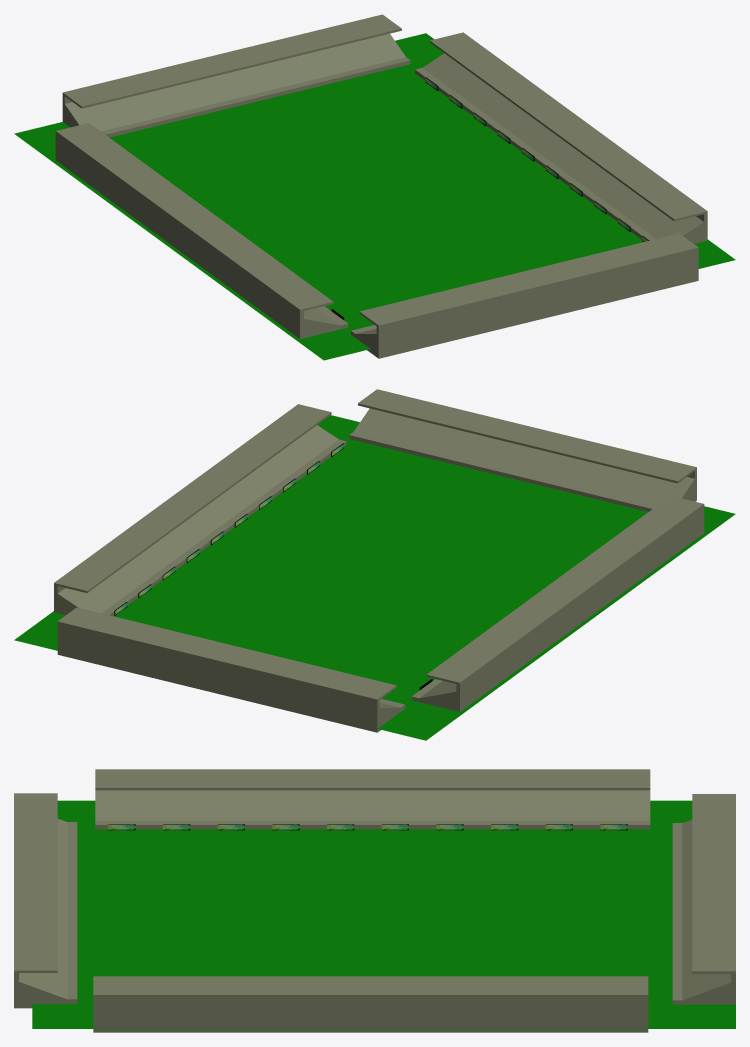
Rendered from stadion.dae.
3 renders of one model, top to bottom at view 1: azimuth 30°, elevation 25°; view 2: azimuth 150°, elevation 25°; view 3: azimuth 270°, elevation 25°, orthographic. The views are drawn at different scales.
Parts seen in each view (by area): view 1: Plane, Cube_003, Cube_004, Cube_005, Cube_002, Cube_000; view 2: Plane, Cube_003, Cube_005, Cube_004, Cube_002, Cube_000; view 3: Plane, Cube_002, Cube_003, Cube_005, Cube_004, Cube_001.
Boxes of the visible parts, x1,y1,x2,y2 form: Plane: (14,33,735,360); Cube_003: (415,32,707,243); Cube_004: (62,14,410,137); Cube_005: (351,233,698,358); Cube_002: (55,123,348,339); Cube_000: (425,77,649,241); Plane: (14,415,735,740); Cube_003: (54,404,346,615); Cube_005: (349,389,696,511); Cube_004: (57,607,405,732); Cube_002: (411,496,704,711); Cube_000: (114,443,343,615); Plane: (32,800,735,1028); Cube_002: (95,769,650,829); Cube_003: (93,976,648,1032); Cube_005: (14,793,77,1008); Cube_004: (672,794,735,1004); Cube_001: (108,824,627,830).
Size of the model in its own units: 111 by 148 by 8.56.
5 materials, 2 textured.
